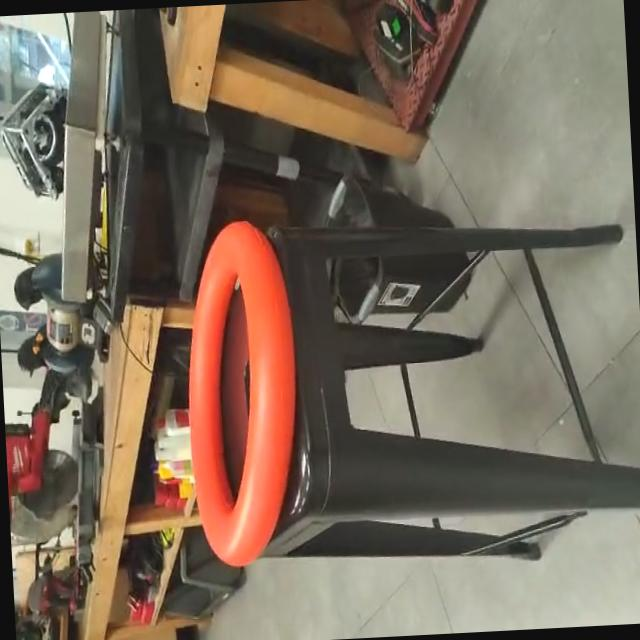note: (173, 214, 307, 574)
